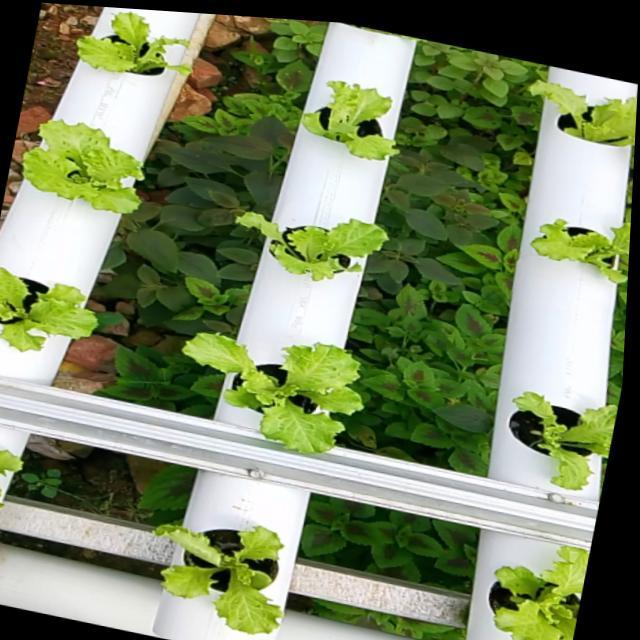Baby: (182, 332, 361, 450), (152, 518, 281, 628), (26, 121, 146, 215), (504, 392, 618, 488), (483, 543, 589, 640), (238, 213, 388, 281), (0, 265, 100, 349), (302, 85, 398, 163), (80, 16, 194, 79), (530, 86, 637, 152), (528, 222, 631, 286), (0, 445, 22, 470)
